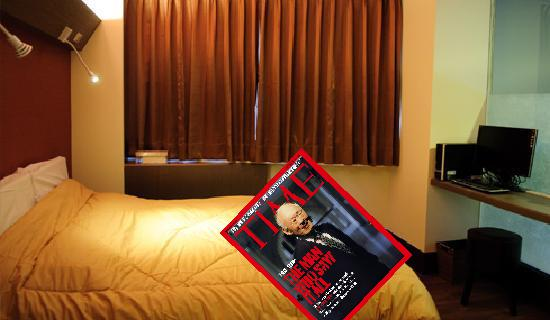times: (219, 148, 415, 320)
